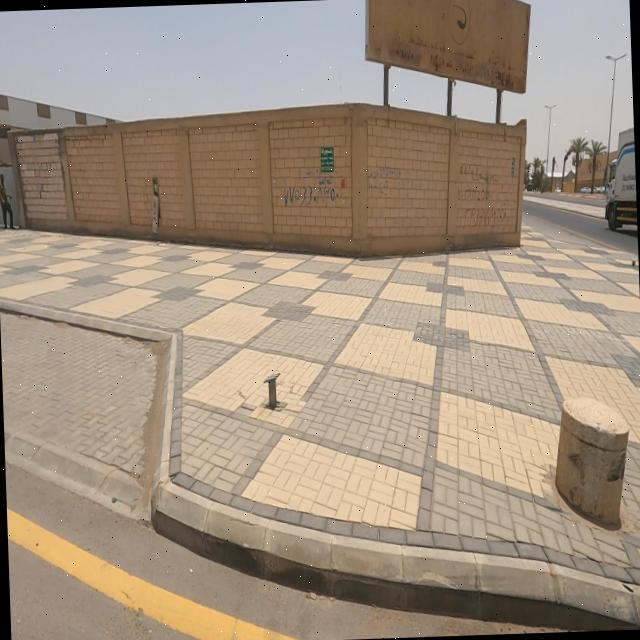Graffiti: (460, 159, 511, 230), (283, 174, 348, 212), (370, 161, 403, 199)
